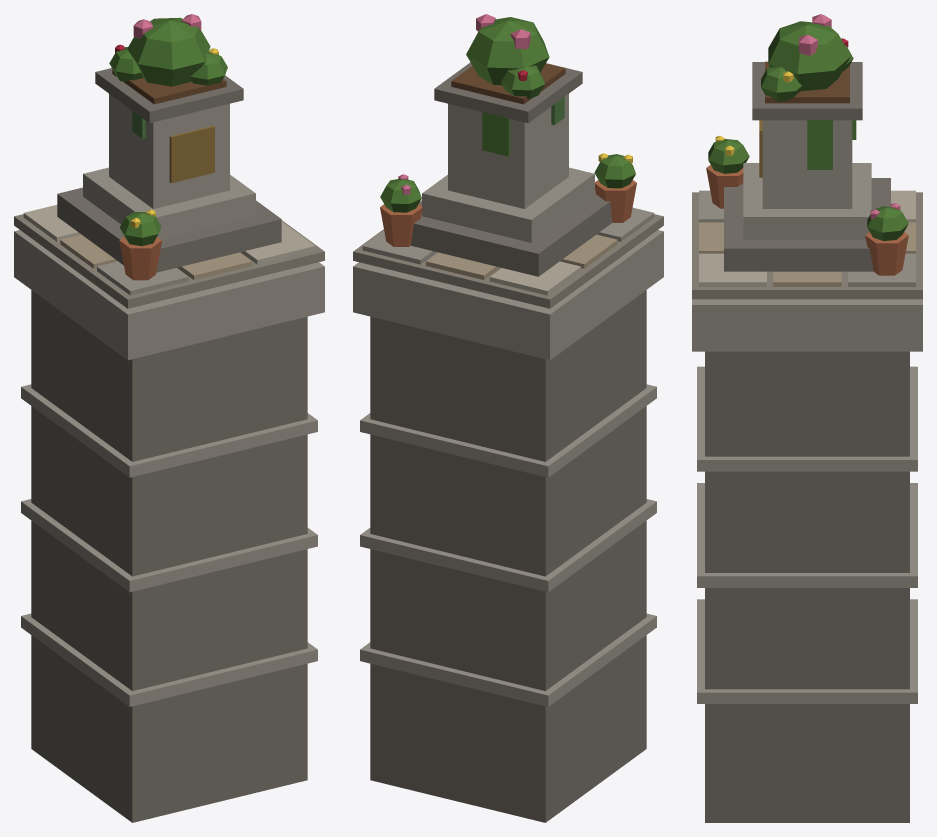
The model's file is decor_flower_pedestal.glb.
3 views of the same model, side by side, from view 1: azimuth 30°, elevation 25°; view 2: azimuth 150°, elevation 25°; view 3: azimuth 270°, elevation 25° (orthographic).
Visible parts, largest first — view 1: decor_flower_pedestal; view 2: decor_flower_pedestal; view 3: decor_flower_pedestal.
Boxes of the visible parts, x1,y1,x2,y2 form: decor_flower_pedestal: (14,14,324,822); decor_flower_pedestal: (353,14,663,822); decor_flower_pedestal: (692,14,922,822).
Size of the model in its own units: 1.8 by 6.5 by 1.8.
